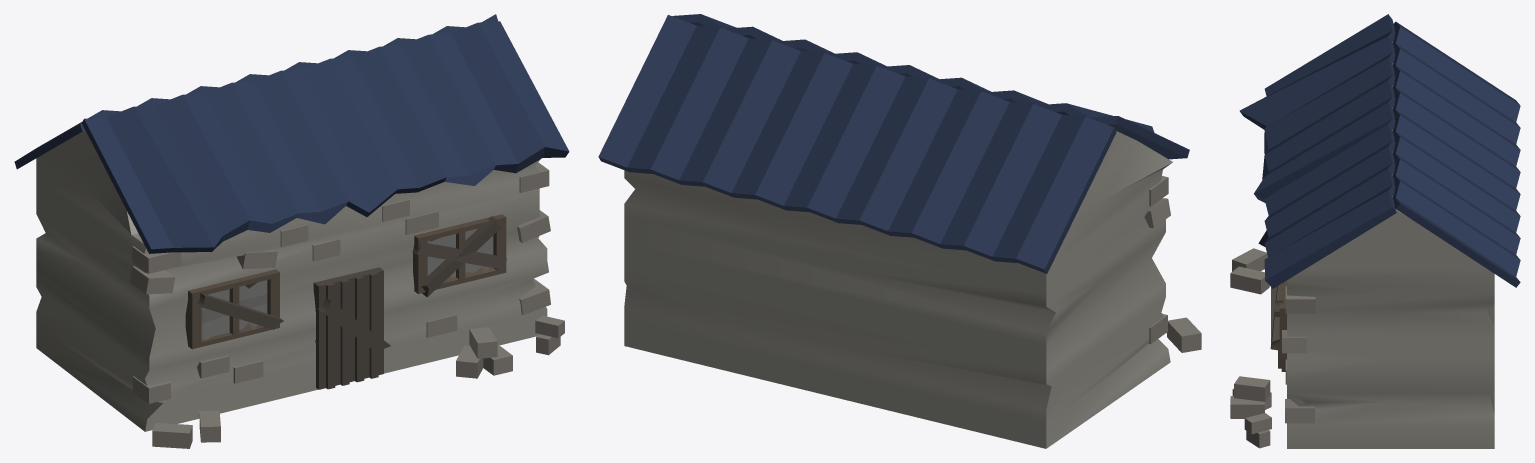
Rendered from WIDE HOUSE DAMAGED blue roof (1).fbx.
3 renders of one model, left to right at view 1: azimuth 30°, elevation 25°; view 2: azimuth 150°, elevation 25°; view 3: azimuth 270°, elevation 25°, orthographic. The views are drawn at different scales.
Visible parts, largest first — view 1: pCube1, pCube2, pCube4, pCube5, pCube6, pCube3, pCube36, pCube35, pCube37, pCube34, pCube27, pCube11 (+14 smaller); view 2: pCube1, pCube3, pCube2, pCube27; view 3: pCube1, pCube2, pCube3, pCube28, pCube30, pCube31, pCube12, pCube16, pCube27, pCube14, pCube6, pCube33 (+2 smaller).
Boxes of the visible parts, <box> form: pCube1: <box>36,130,548,431</box>; pCube2: <box>82,21,569,253</box>; pCube4: <box>313,267,383,389</box>; pCube5: <box>185,269,279,349</box>; pCube6: <box>413,214,506,293</box>; pCube3: <box>14,14,497,169</box>; pCube36: <box>421,216,501,297</box>; pCube35: <box>196,293,283,329</box>; pCube37: <box>412,243,506,269</box>; pCube34: <box>318,297,390,353</box>; pCube27: <box>152,422,192,448</box>; pCube11: <box>129,266,175,294</box>; pCube1: <box>624,131,1172,448</box>; pCube3: <box>598,15,1116,273</box>; pCube2: <box>672,14,1189,159</box>; pCube27: <box>1167,317,1201,352</box>; pCube1: <box>1287,41,1494,448</box>; pCube2: <box>1239,14,1396,288</box>; pCube3: <box>1393,21,1520,287</box>; pCube28: <box>1230,266,1269,294</box>; pCube30: <box>1234,376,1270,401</box>; pCube31: <box>1230,396,1264,418</box>; pCube12: <box>1285,399,1314,423</box>; pCube16: <box>1285,286,1315,313</box>; pCube27: <box>1232,248,1267,271</box>; pCube14: <box>1282,330,1306,353</box>; pCube6: <box>1279,280,1286,359</box>; pCube33: <box>1244,413,1271,434</box>.
Size of the model in its own units: 0.1493 by 0.0925 by 0.0965.
